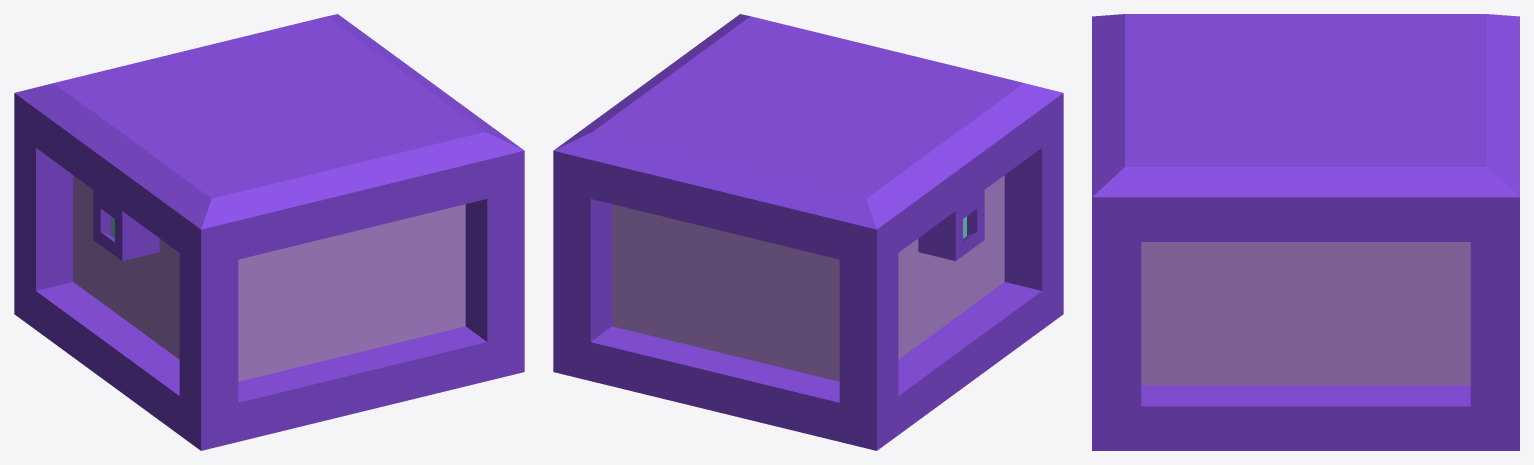
File: lab5 1.fbx
The picture shows the model from 3 angles, left to right: view 1: azimuth 30°, elevation 25°; view 2: azimuth 150°, elevation 25°; view 3: azimuth 270°, elevation 25°; orthographic projection. The views are drawn at different scales.
Visible parts, largest first — view 1: Cube; view 2: Cube; view 3: Cube.
Boxes of the visible parts, x1=… form: Cube: x1=14, y1=14, x2=524, y2=450; Cube: x1=553, y1=14, x2=1063, y2=450; Cube: x1=1092, y1=14, x2=1519, y2=450.
Size of the model in its own units: 260 by 181 by 260.
